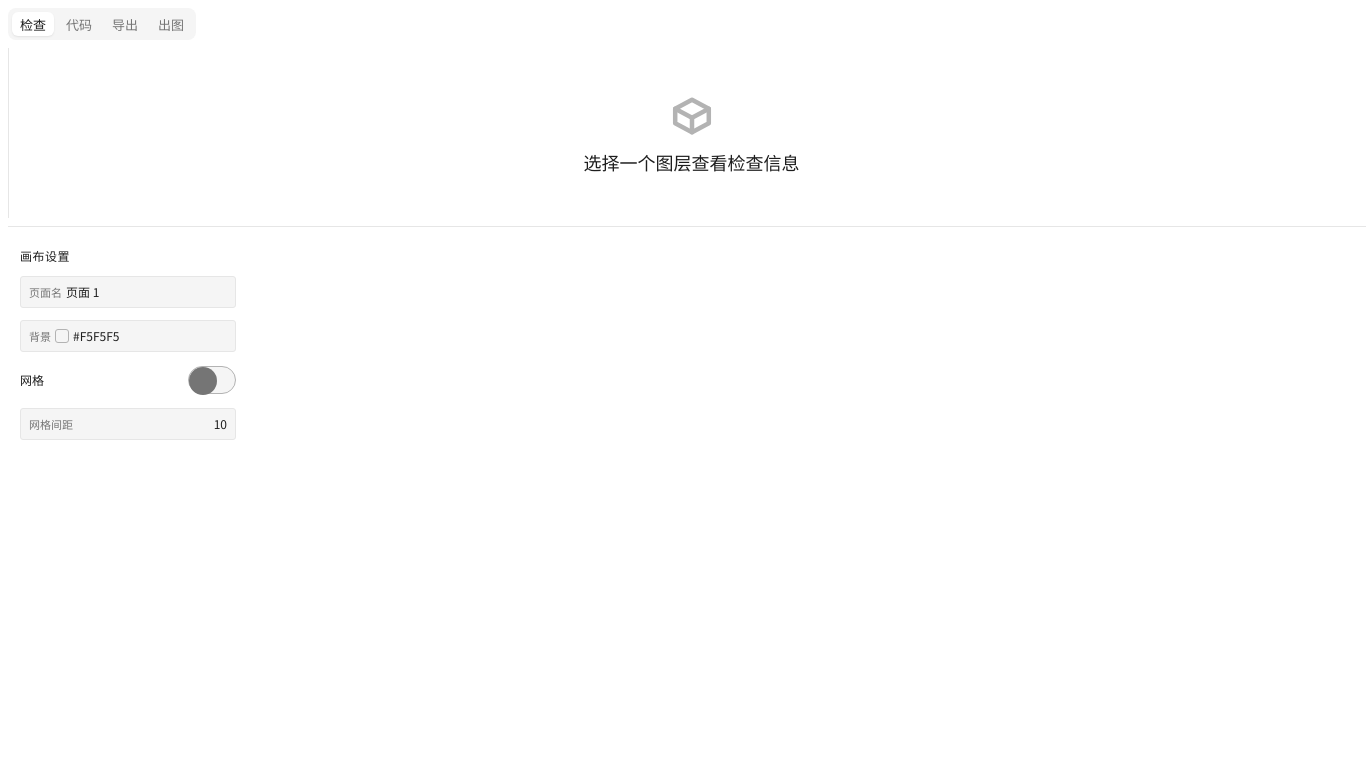
右栏页签 · 出图（D1） › 四页签齐；选「出图」→ ImagePanel 抽屉挂载（data-df-panel=image）
The width and height of the screenshot is (1366, 768).
Click the radio button labelled "出图".
click(171, 24)  # box 158,14 -> 184,34
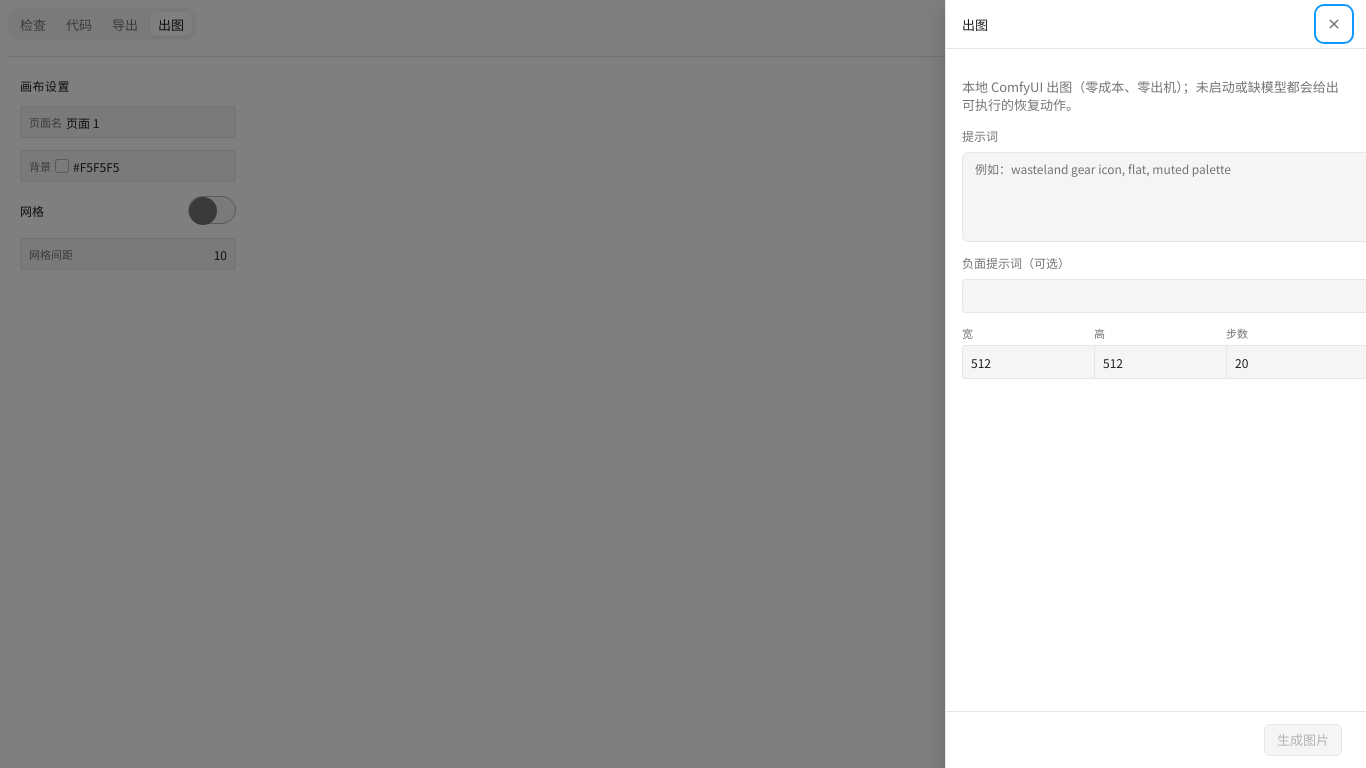
Now the element showing "提示词 负面提示词（可选） 宽 高 步数" is shown, box 962,127 -> 1350,379
